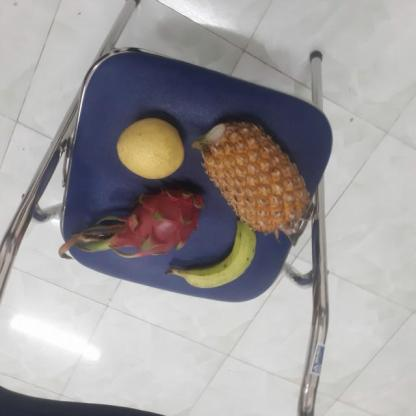banana: (174, 220, 266, 291)
pear: (115, 115, 189, 176)
pineapple: (196, 119, 310, 231)
pitaya: (105, 181, 212, 255)
